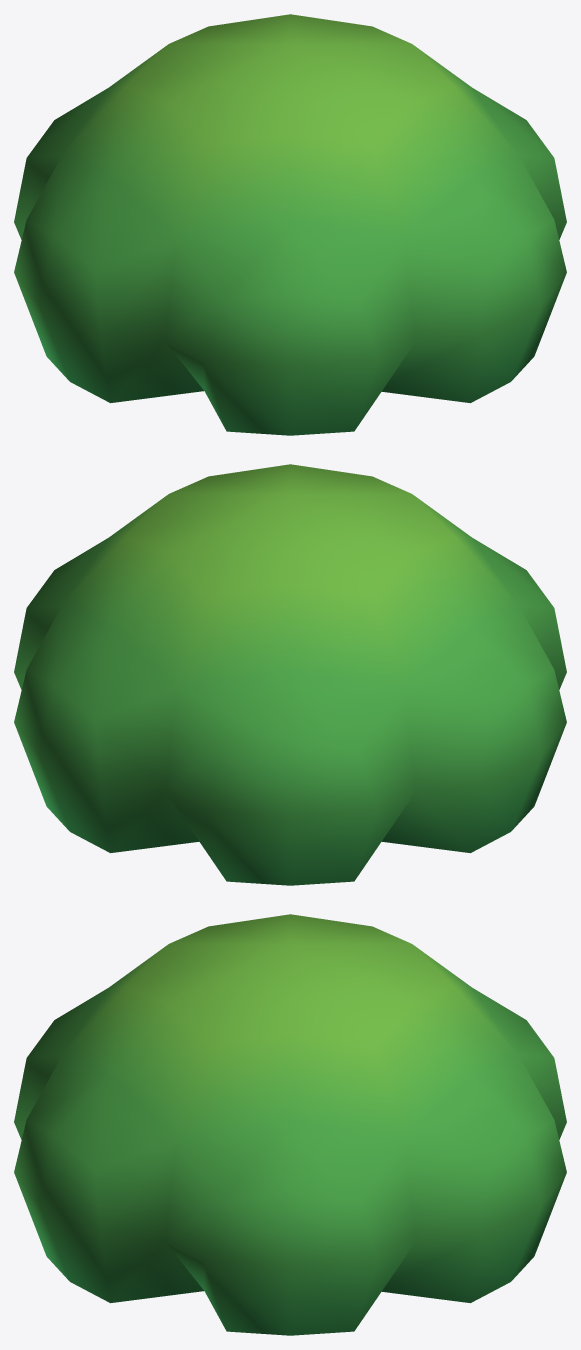
Rendered from bush.glb.
3 views of the same model, one above another, from view 1: azimuth 30°, elevation 25°; view 2: azimuth 150°, elevation 25°; view 3: azimuth 270°, elevation 25° (orthographic).
Visible parts, largest first — view 1: bush; view 2: bush; view 3: bush.
Part boxes in pixels (box(x1,y1,x2,y2)): bush: box(14, 14, 566, 435); bush: box(14, 464, 566, 885); bush: box(14, 914, 566, 1335).
Bounding box in the file's own units: 1 × 0.5385 × 0.9535.
1 material, 1 textured.
